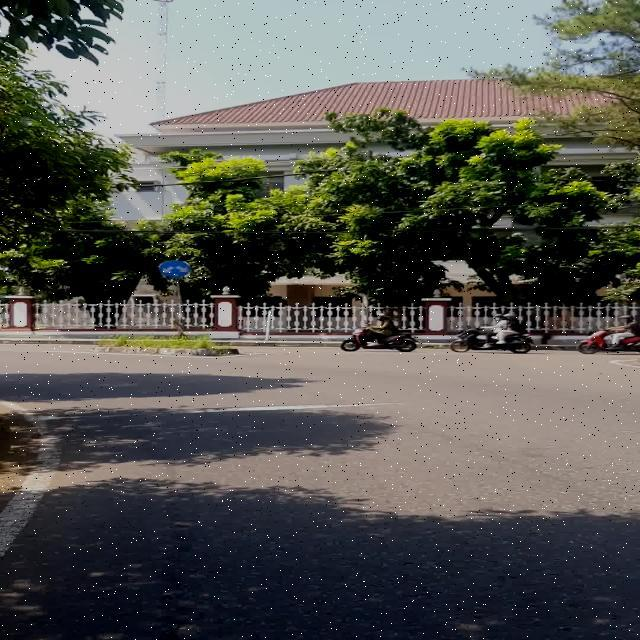Pilih Salah Satu Jalur: (159, 260, 190, 278)
